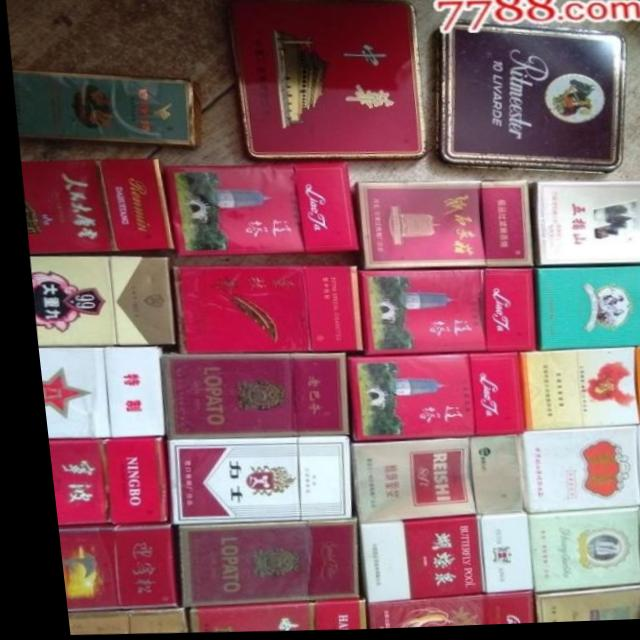box: (229, 1, 422, 162), (434, 23, 625, 178), (158, 164, 353, 256), (163, 265, 356, 355), (345, 183, 526, 271), (156, 438, 340, 524), (166, 523, 345, 610), (340, 354, 513, 444), (154, 355, 339, 439), (353, 271, 530, 358), (346, 517, 522, 604), (341, 440, 514, 526), (12, 70, 197, 150), (17, 158, 168, 254), (23, 255, 166, 346), (30, 344, 157, 439), (510, 429, 640, 516), (516, 508, 640, 597), (513, 350, 640, 435), (524, 183, 640, 271), (46, 523, 161, 611), (38, 439, 155, 524), (530, 269, 640, 354), (168, 601, 355, 633), (352, 598, 521, 631), (522, 589, 640, 626)
